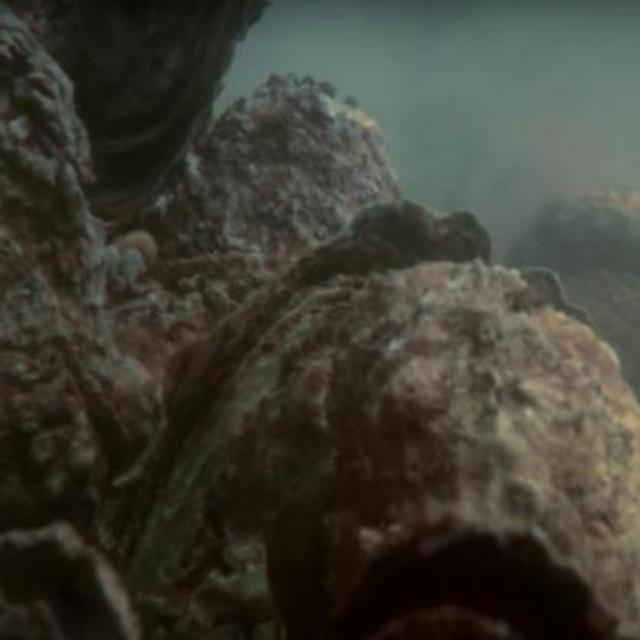Oyster-Closed: (146, 258, 640, 640), (0, 3, 154, 467), (139, 76, 411, 301), (0, 224, 129, 555), (0, 519, 138, 640)
Oyster-Open: (111, 198, 495, 629), (0, 0, 265, 217), (314, 514, 637, 640)
